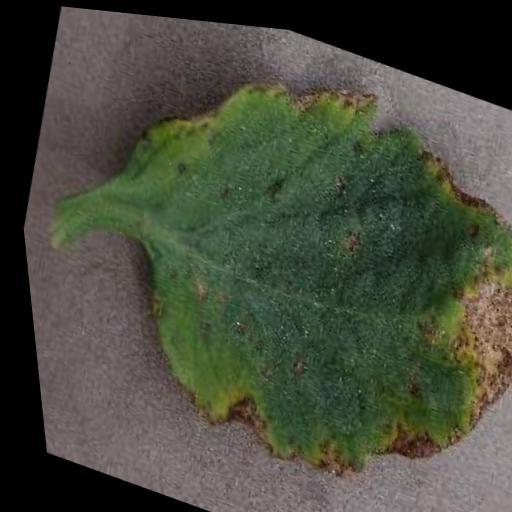Bacterial Spot: (49, 4, 512, 512)
